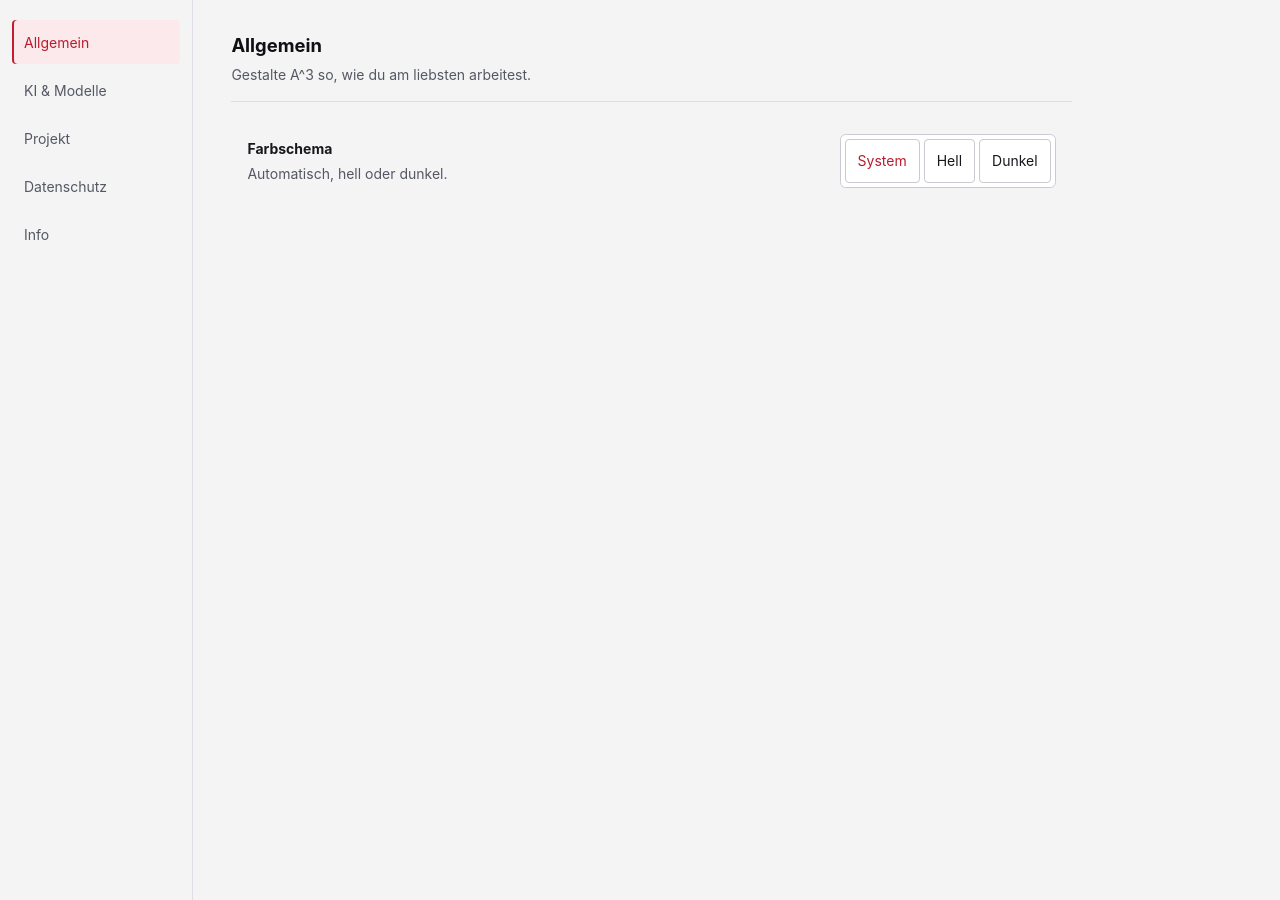
SettingsPanel › keeps persisted role assignments visible without reloading the model catalog
What coordinates should you click on to do the following:
click the button "KI & Modelle"
I would click on:
 (96, 90)
Its box is x1=12 y1=68 x2=180 y2=112.
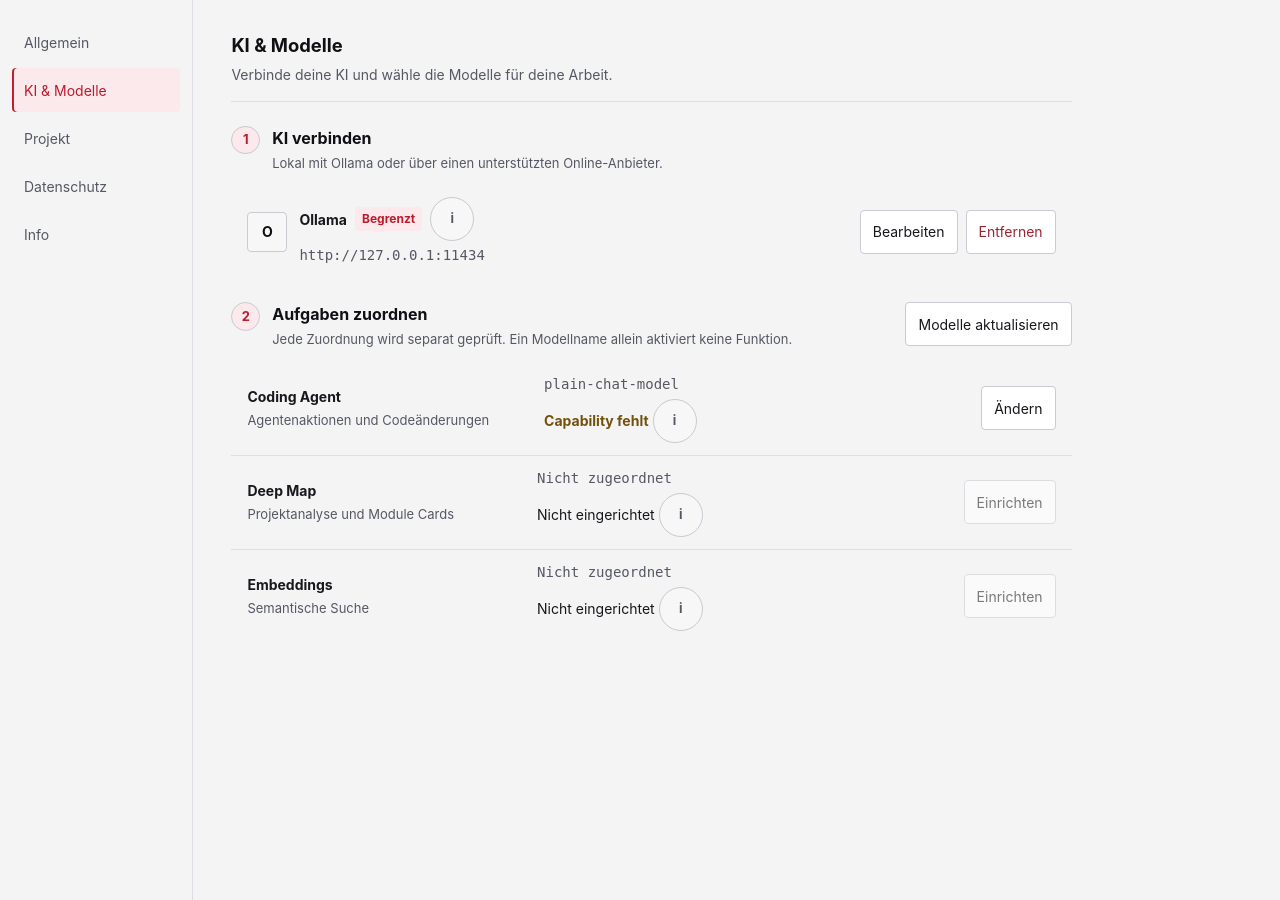
Result: the text "Capability fehlt" is shown at x1=544 y1=410 x2=648 y2=431
Result: the text "plain-chat-model" is shown at x1=544 y1=376 x2=679 y2=392
Result: the button "Modelle aktualisieren" is shown at x1=906 y1=302 x2=1072 y2=346
What coordinates should you click on to do the following:
click the heading named "Status für Coding Agent erklären"
I would click on:
 (674, 421)
Its box is x1=652 y1=399 x2=696 y2=443.
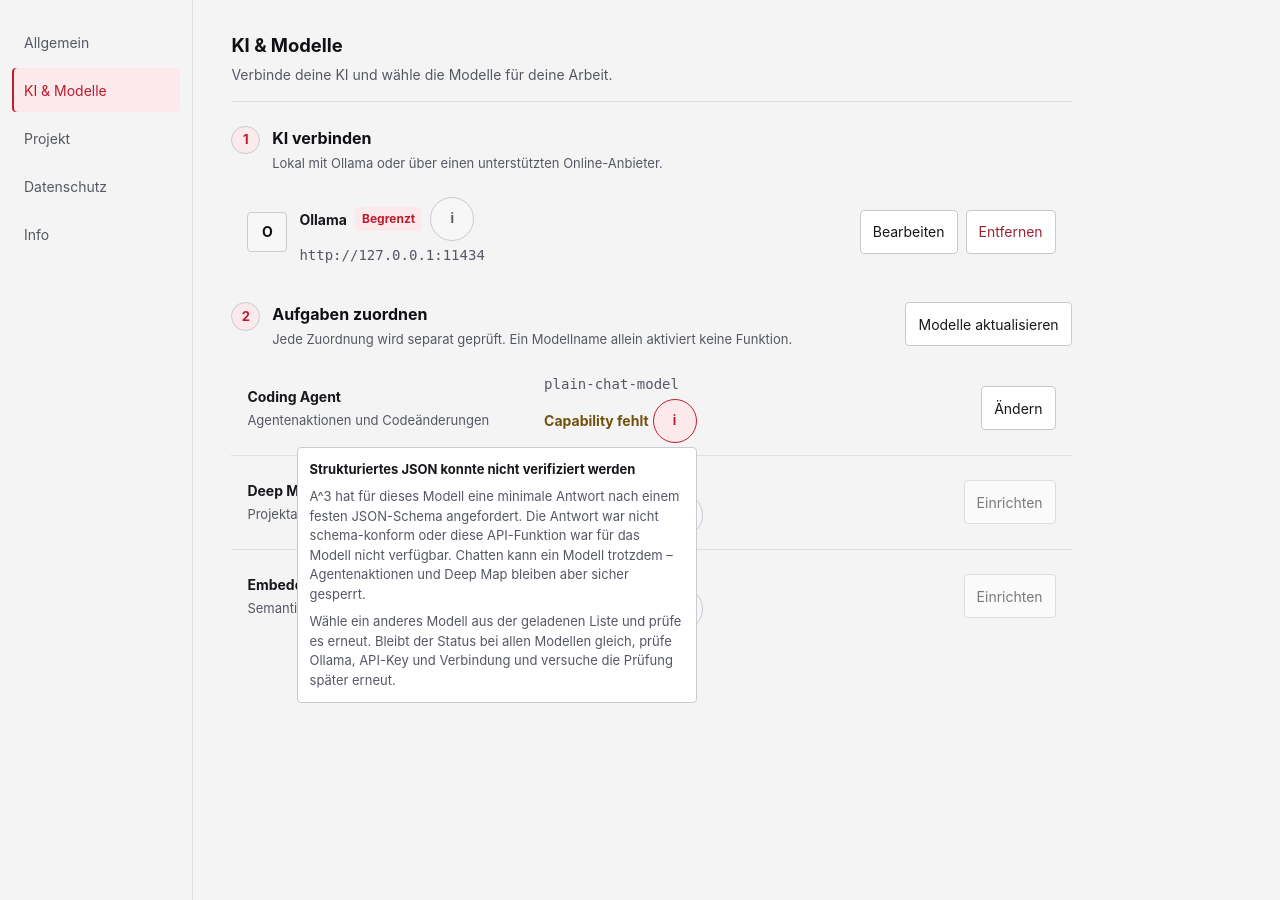
Result: the text "Strukturiertes JSON konnte nicht verifiziert werden" is shown at x1=310 y1=460 x2=684 y2=479
Result: the text "Chatten kann ein Modell trotzdem" is shown at x1=310 y1=488 x2=679 y2=602
Result: the text "Wähle ein anderes Modell" is shown at x1=310 y1=613 x2=681 y2=688
What coordinates should you click on to do the following:
click the heading named "Providerstatus erklären"
I would click on:
 (452, 219)
Its box is x1=430 y1=197 x2=474 y2=241.
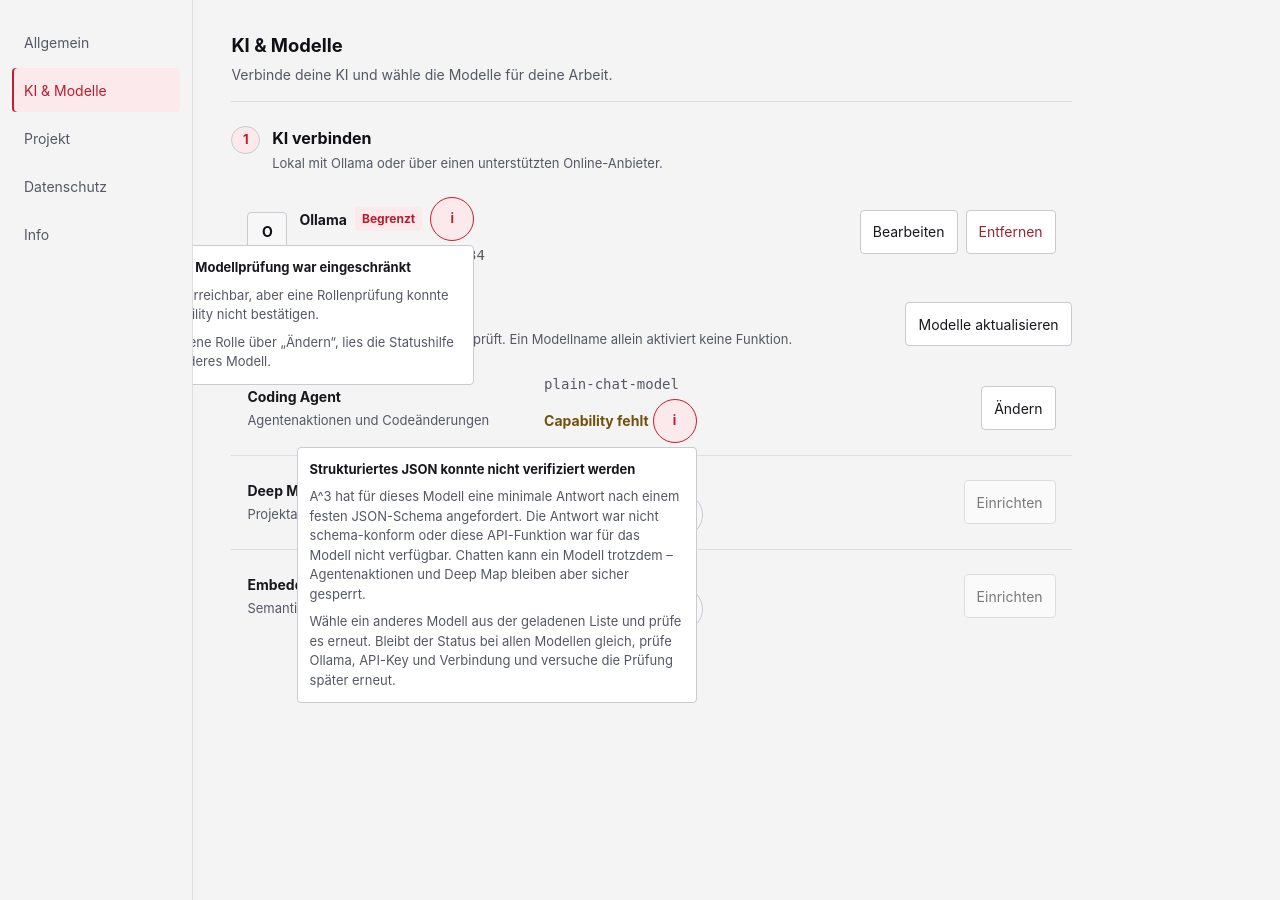
Result: the text "Mindestens eine Modellprüfung war eingeschränkt" is shown at x1=192 y1=258 x2=461 y2=278
